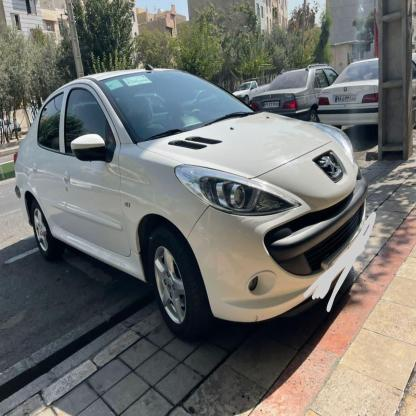Car: (11, 71, 369, 321), (322, 47, 416, 142), (253, 63, 344, 128), (232, 74, 272, 107)
